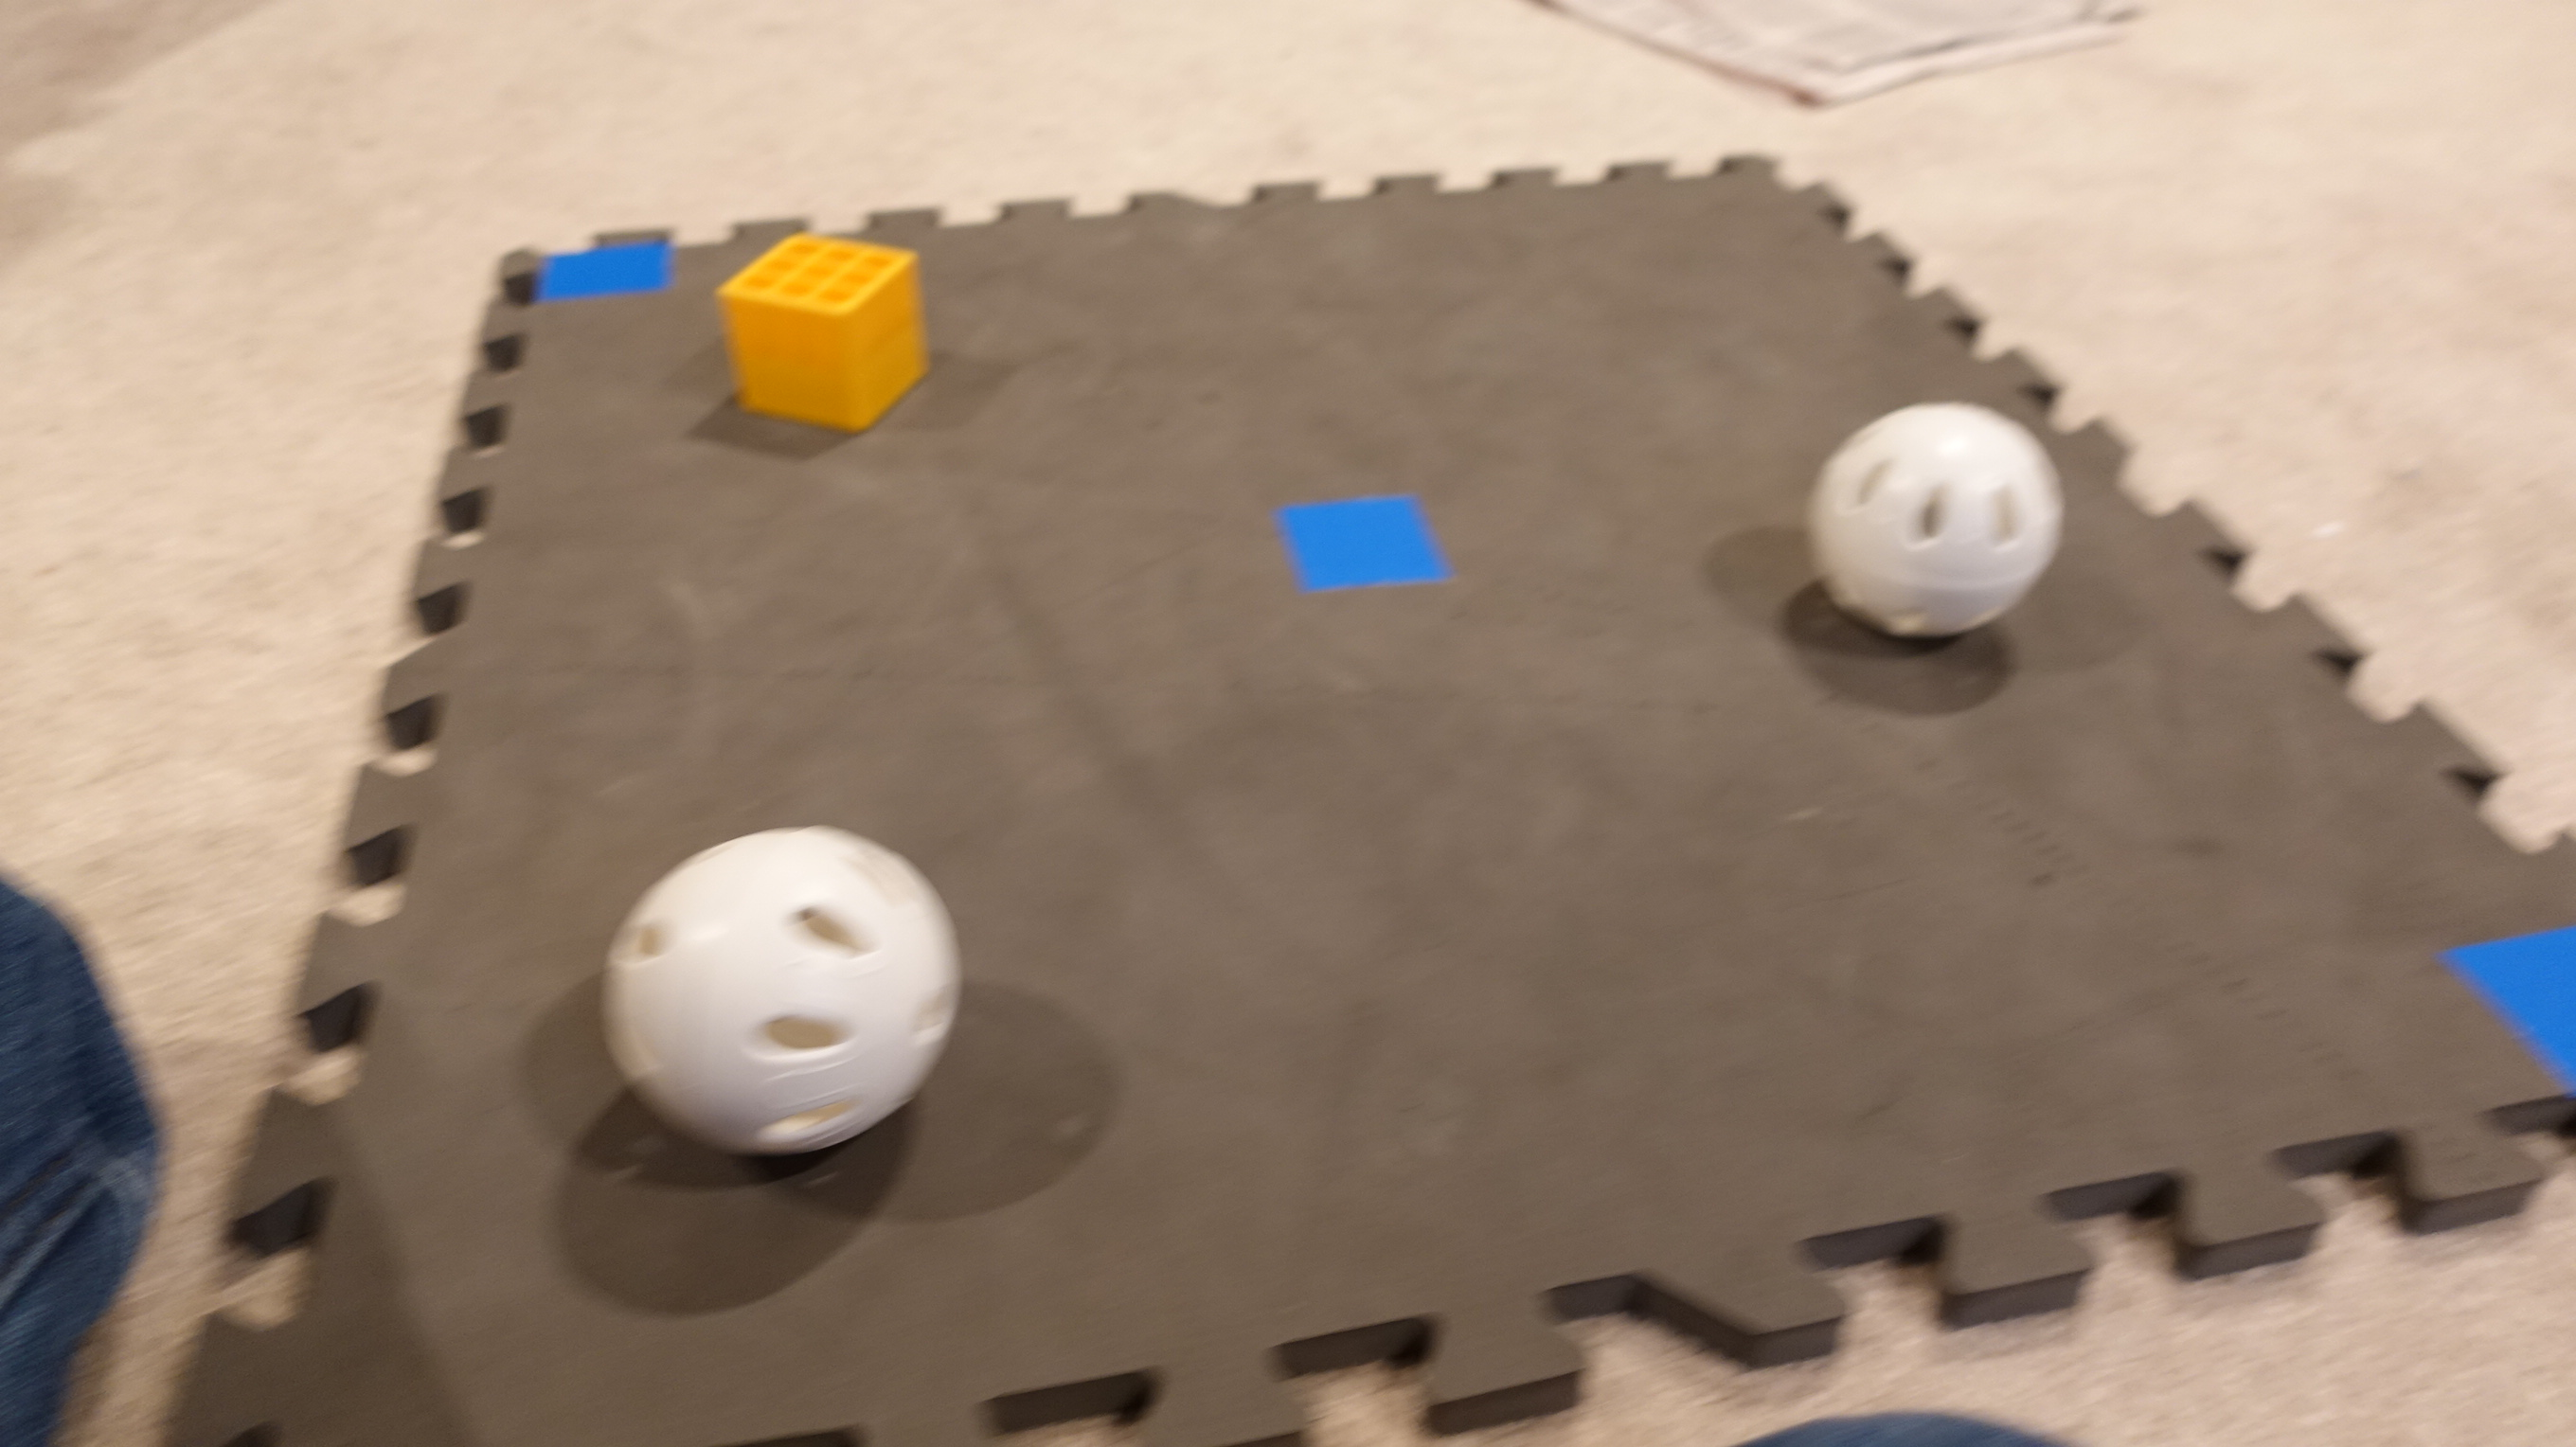gold: (709, 226, 938, 430)
silver: (589, 808, 982, 1173), (1789, 382, 2081, 655)
